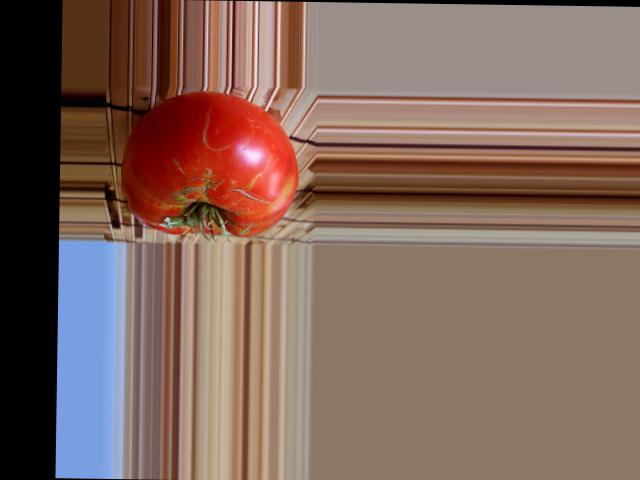tomato: (119, 92, 299, 237)
